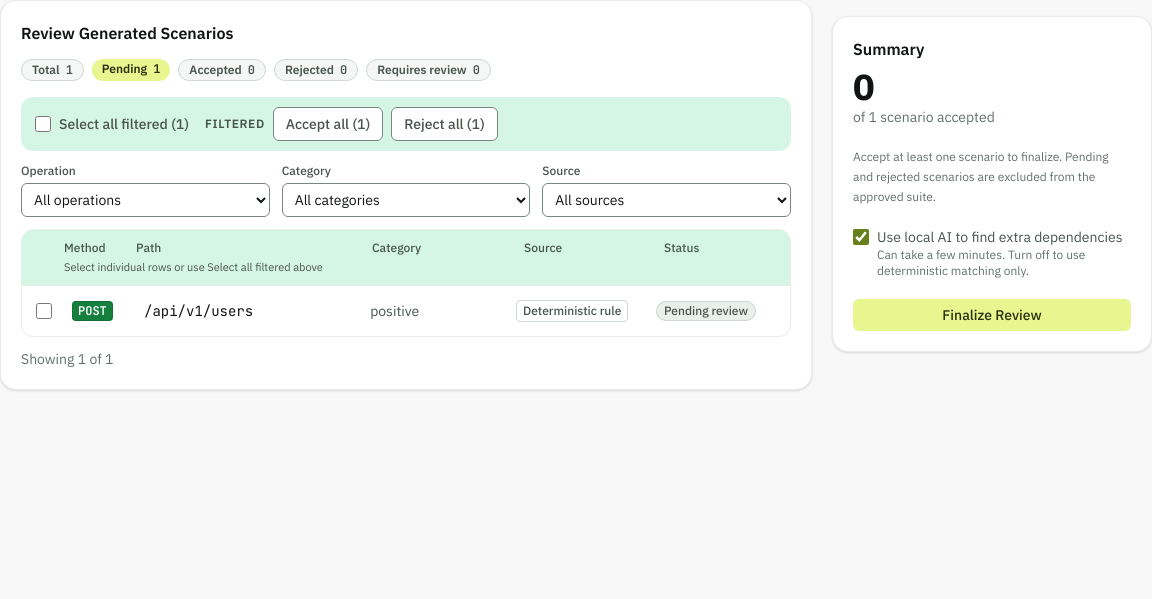
Scenario: ScenarioReviewStage › passes the scenario's matching operation through so its security requirement is shown, not just an empty headers object
Click the button with test id "review-scenario-row-s1".
click(420, 311)  # box [64,294,776,328]
(page scrolled)
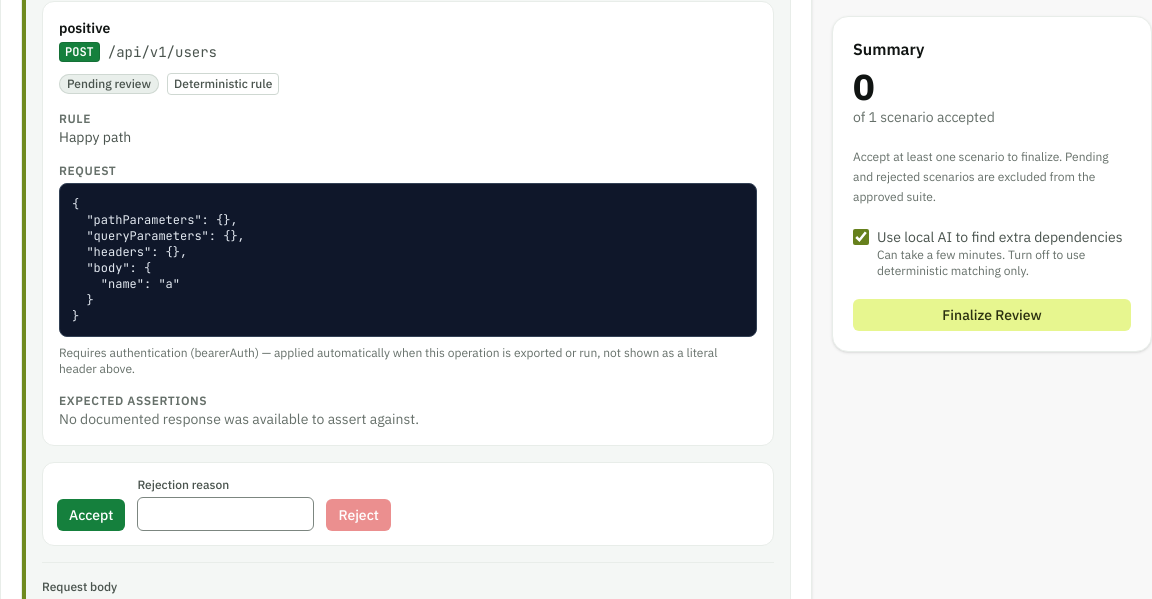
Now the text with test id "review-scenario-security" shows "Requires authentication (bearerAuth)", box [59,345,757,377]
